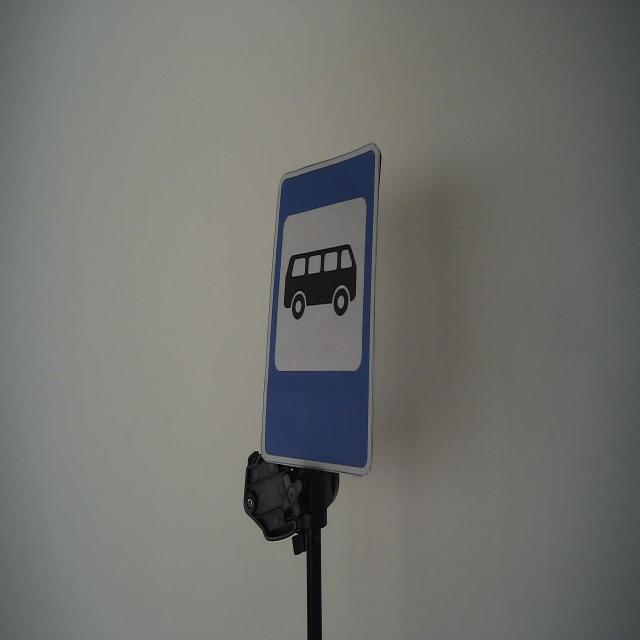bus_stop: (259, 138, 383, 482)
